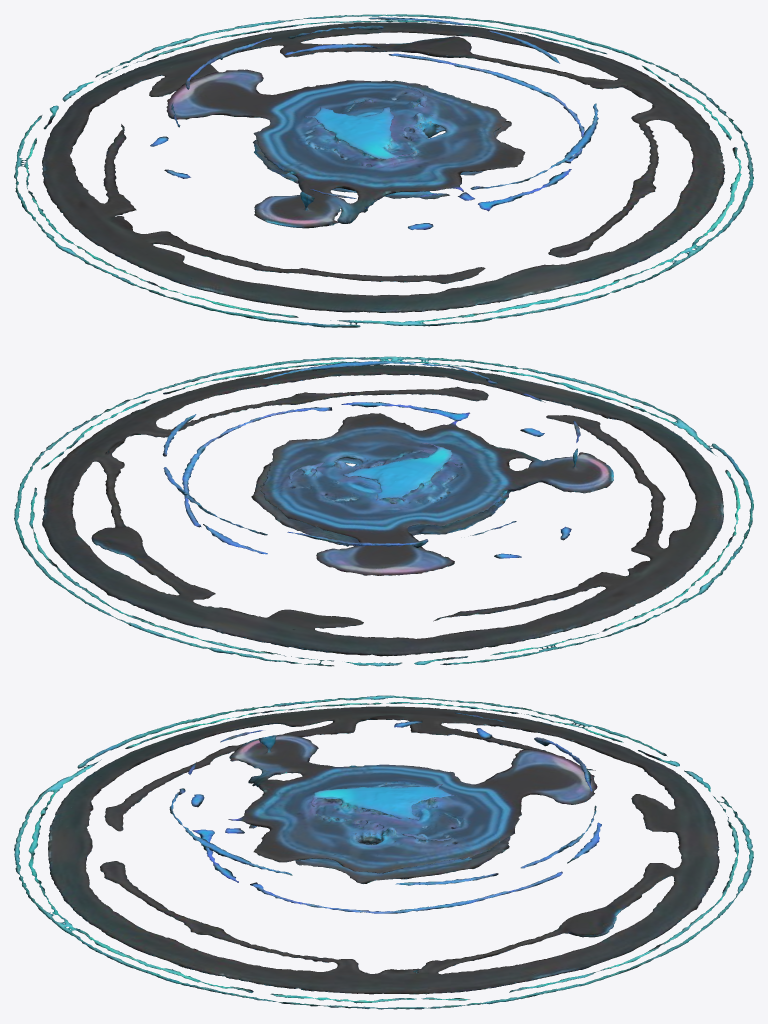
File: holo.glb
The picture shows the model from 3 angles, top to bottom: view 1: azimuth 30°, elevation 25°; view 2: azimuth 150°, elevation 25°; view 3: azimuth 270°, elevation 25°; orthographic projection.
Size of the model in its own units: 2 by 0.1848 by 1.99.
1 material, 1 textured.
